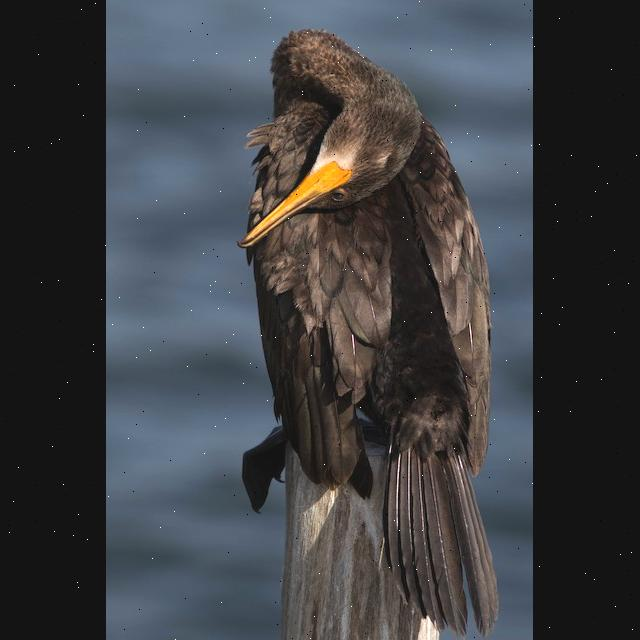cormorant: (228, 9, 514, 634)
